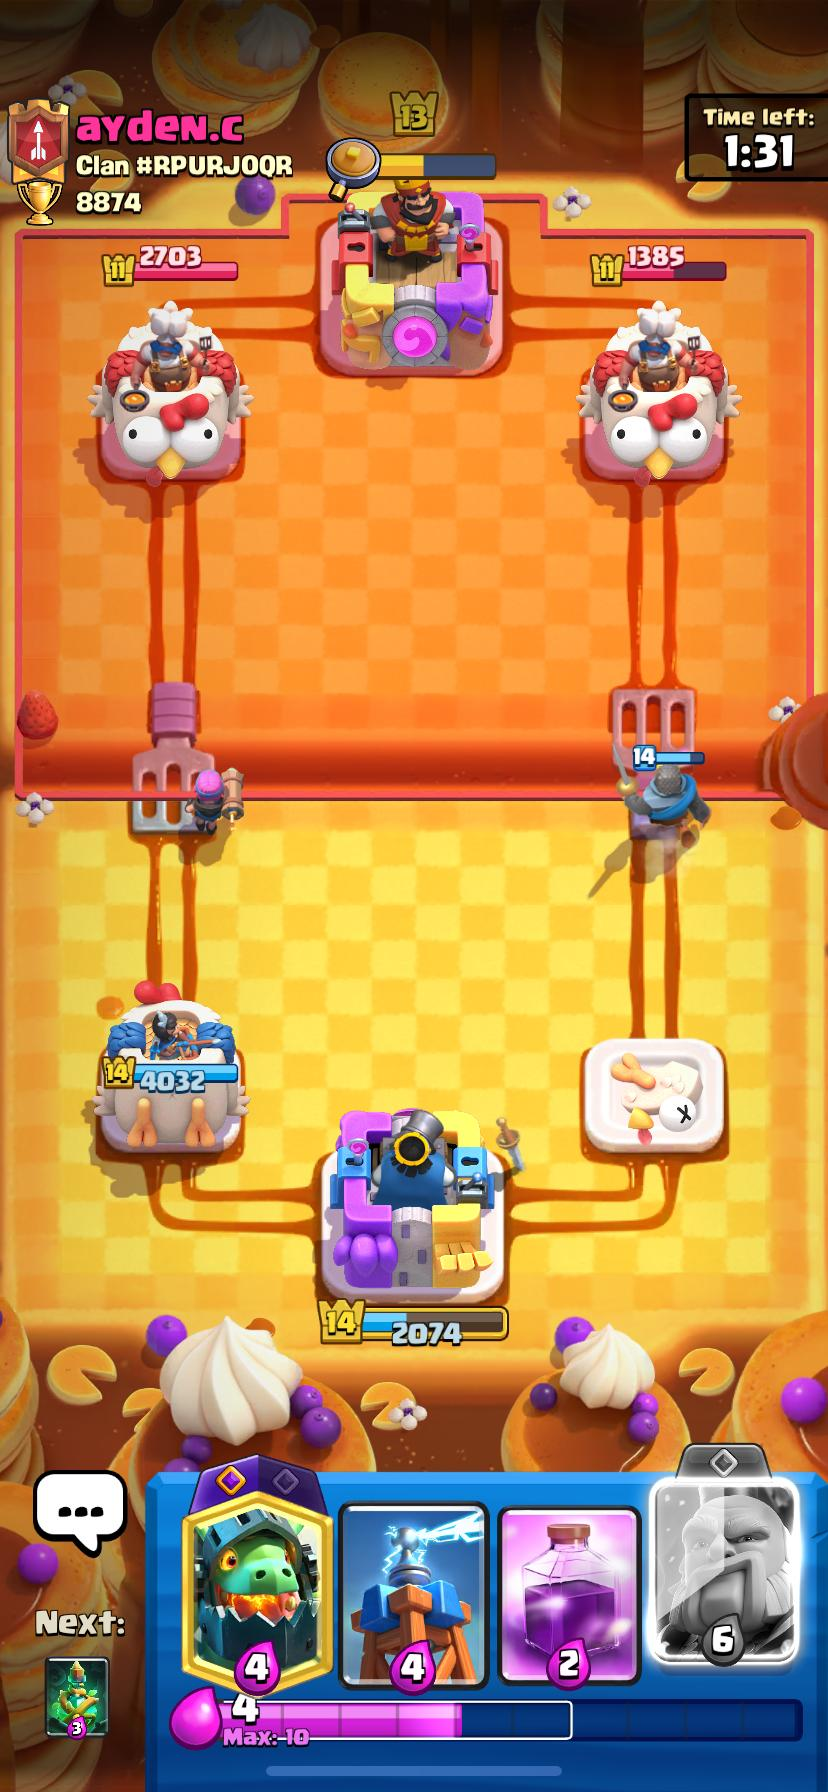EKingTower: (320, 182, 502, 377)
EnemyPanTower: (89, 301, 250, 486), (578, 301, 738, 486)
OBombertower: (630, 742, 703, 773)
OFirecrack: (186, 768, 242, 834)
OKnight: (613, 744, 709, 837)
OwnKingTower: (321, 1109, 504, 1306)
OwnPrincessTower: (93, 983, 248, 1152)
TowerDown: (583, 1037, 725, 1157)
